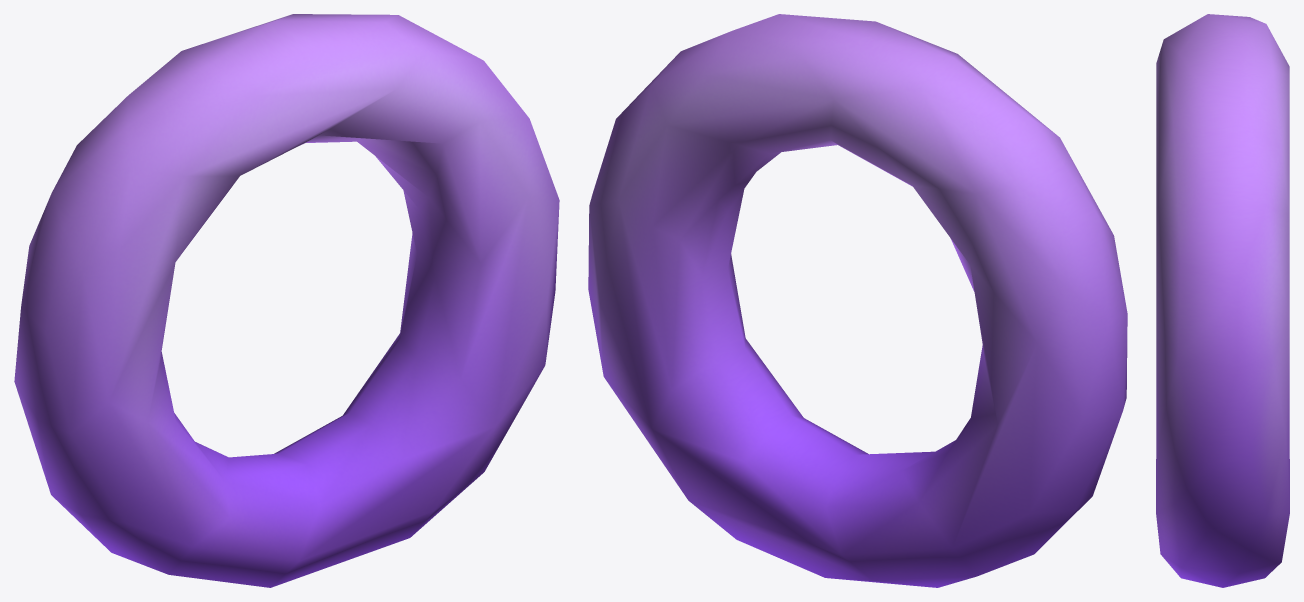
3 renders of one model, left to right at view 1: azimuth 30°, elevation 25°; view 2: azimuth 150°, elevation 25°; view 3: azimuth 270°, elevation 25°, orthographic. The views are drawn at different scales.
Parts seen in each view (by area): view 1: Processed_Mesh0_Geometry; view 2: Processed_Mesh0_Geometry; view 3: Processed_Mesh0_Geometry.
Boxes of the visible parts, bbox=[...] form: Processed_Mesh0_Geometry: bbox=[14, 14, 559, 587]; Processed_Mesh0_Geometry: bbox=[588, 14, 1127, 587]; Processed_Mesh0_Geometry: bbox=[1156, 14, 1289, 587].
Size of what is drawn, in the model's own units: 0.0826 by 0.0831 by 0.0196.
Materials: 1 (1 with a texture image).
